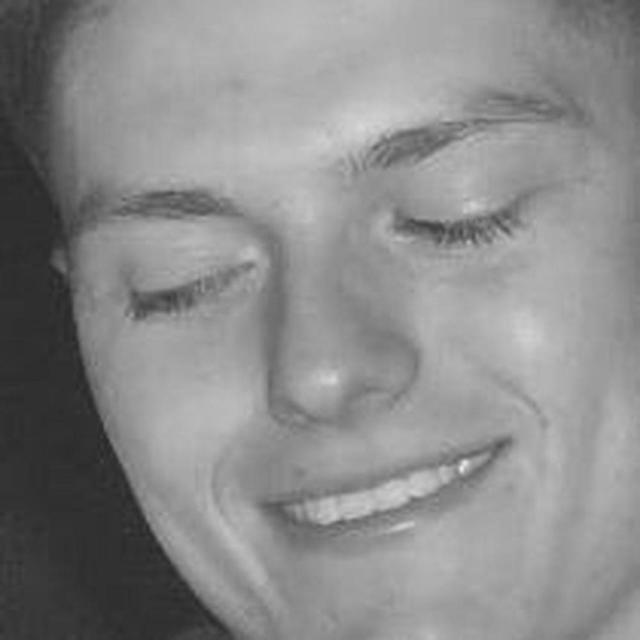real: (57, 3, 640, 640), (104, 114, 562, 354)
